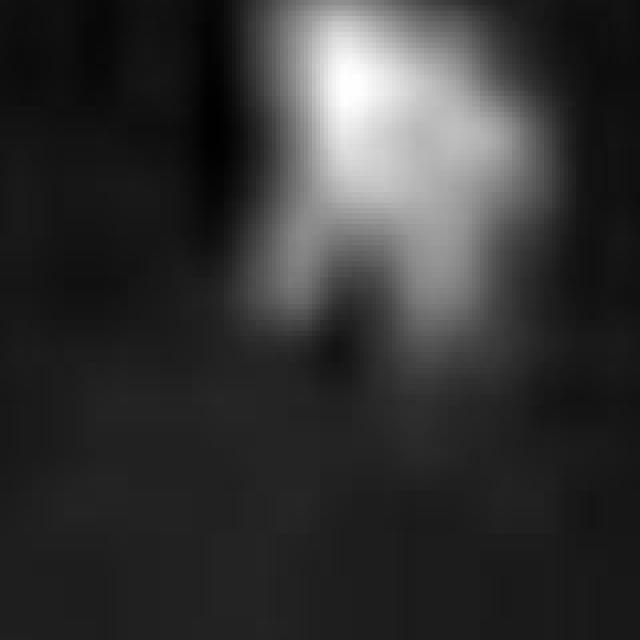person: (217, 1, 553, 385)
